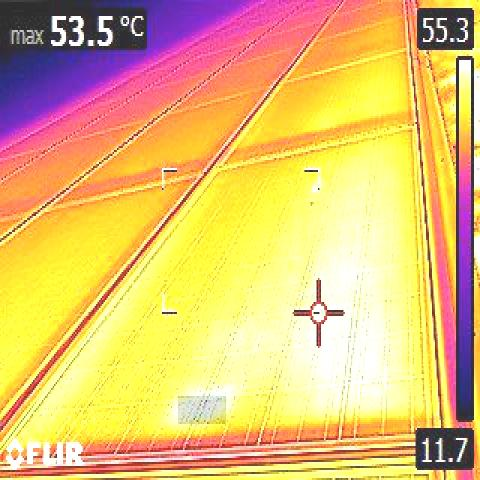fault: (178, 396, 226, 424)
